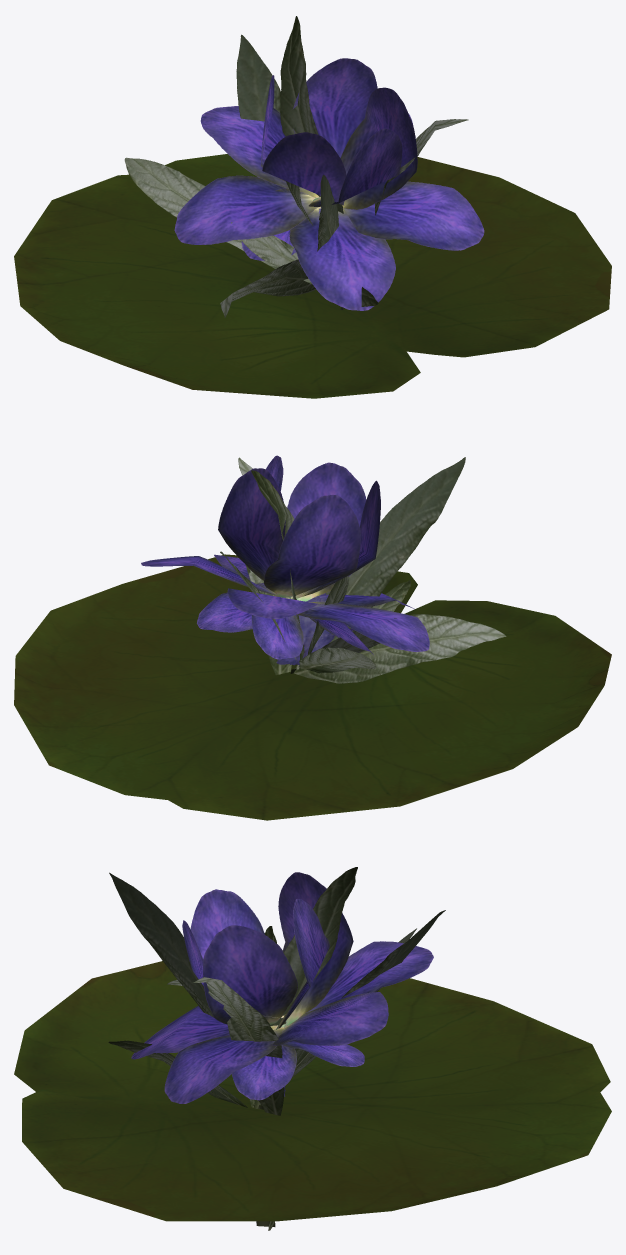
File: lillypad1_6_4_lod1.fbx
3 renders of one model, top to bottom at view 1: azimuth 30°, elevation 25°; view 2: azimuth 150°, elevation 25°; view 3: azimuth 270°, elevation 25°, orthographic. The views are drawn at different scales.
Parts seen in each view (by area): view 1: Mesh Object; view 2: Mesh Object; view 3: Mesh Object.
Part boxes in pixels (box(x1,y1,x2,y2)): Mesh Object: box(14, 16, 611, 398); Mesh Object: box(14, 455, 611, 820); Mesh Object: box(14, 867, 611, 1230).
Size of the model in its own units: 1.01 by 0.6564 by 0.9748.
